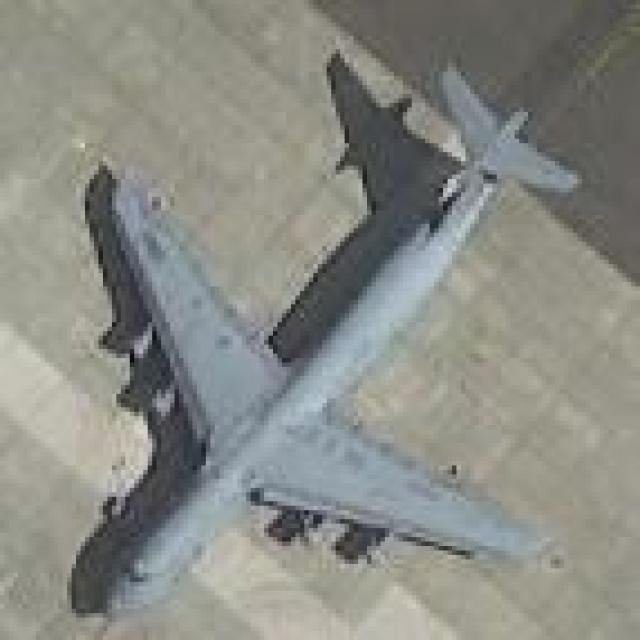C-5_TopDown: (59, 47, 584, 623)
